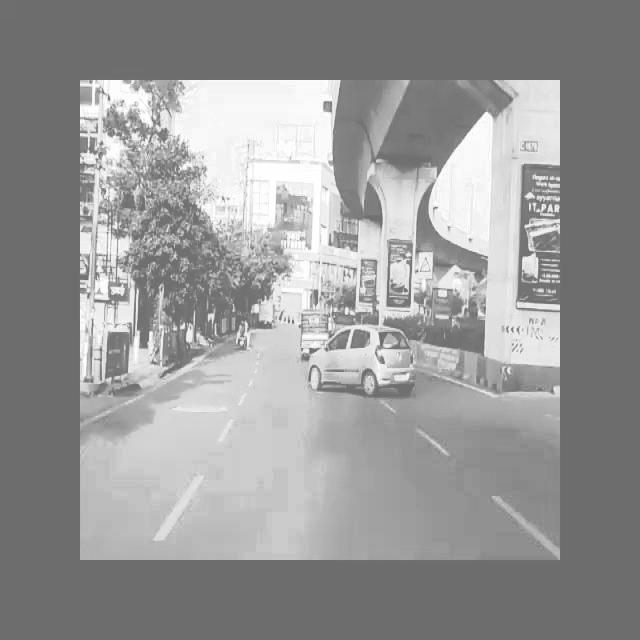Car: (309, 324, 422, 406)
